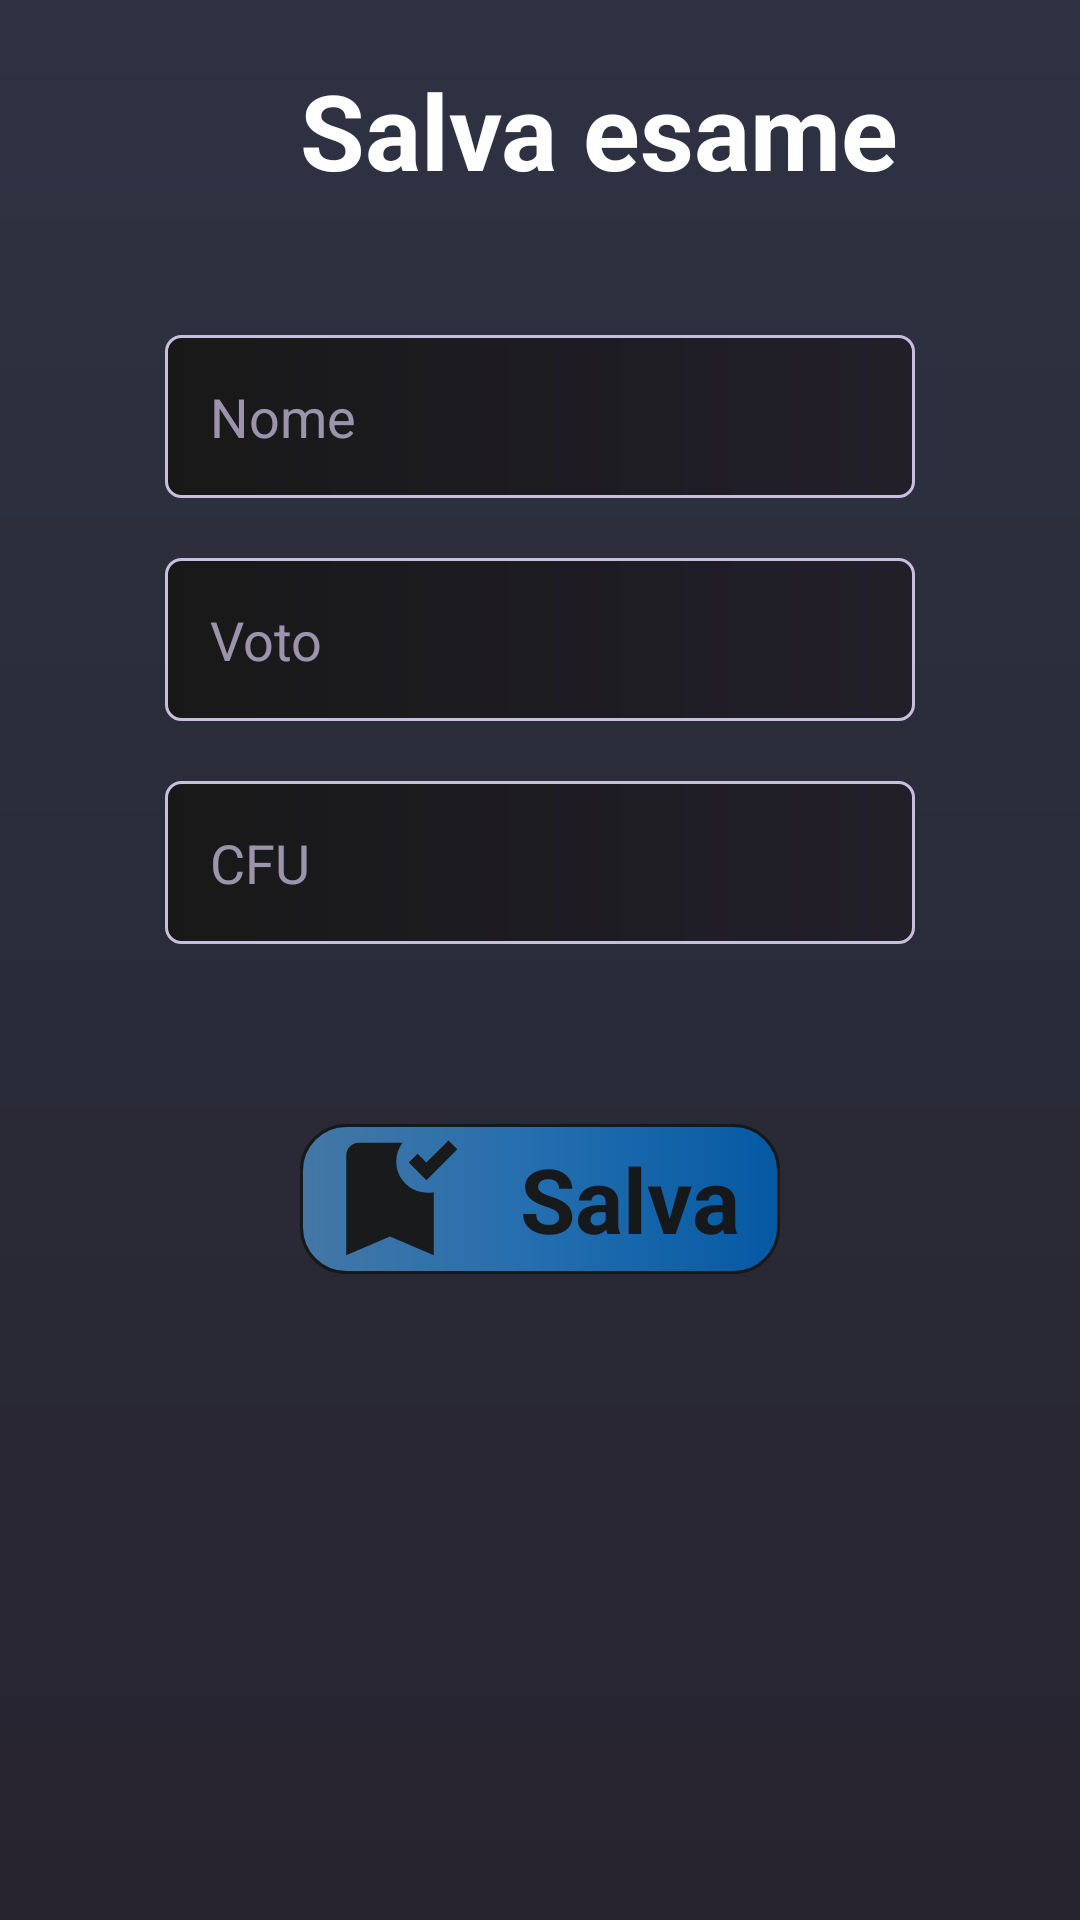

Locate icon controls on the screen. Image size 1080 x 1920, boxes as [x1,y1,x2,y2].
bookmark added: [300,1124,480,1274]
